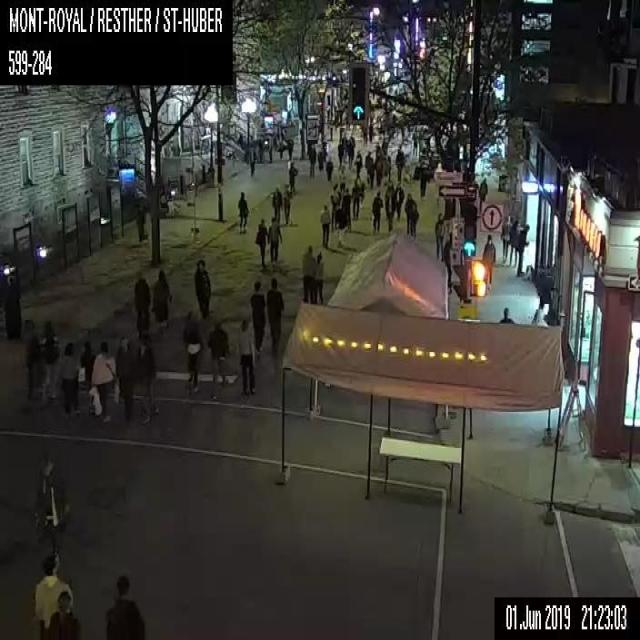pedestrian: (32, 454, 71, 562), (33, 552, 79, 638), (106, 576, 144, 639), (134, 329, 158, 424), (90, 341, 118, 422), (206, 319, 228, 396), (39, 321, 59, 398), (116, 336, 133, 425), (25, 322, 42, 406), (184, 311, 201, 394), (59, 340, 78, 413), (265, 276, 284, 348), (50, 590, 77, 638), (238, 321, 255, 394), (133, 270, 151, 336), (249, 280, 265, 350), (152, 269, 170, 331), (194, 259, 210, 321), (301, 244, 314, 302), (515, 223, 529, 276), (78, 342, 92, 394), (267, 216, 281, 265), (482, 233, 495, 283), (254, 217, 267, 267), (442, 232, 452, 288), (314, 250, 324, 304), (500, 214, 510, 265), (371, 190, 383, 232), (319, 203, 330, 247), (237, 190, 248, 233), (434, 212, 444, 259), (334, 201, 344, 247), (329, 185, 339, 229), (341, 187, 351, 230), (384, 190, 394, 232), (403, 192, 412, 238), (271, 185, 282, 222), (509, 218, 517, 266), (394, 182, 404, 219), (282, 184, 291, 224), (478, 176, 488, 210), (288, 160, 298, 192), (353, 149, 362, 180), (499, 304, 513, 323), (419, 160, 426, 197), (394, 148, 402, 180), (373, 152, 381, 184), (248, 144, 256, 176), (411, 202, 418, 237), (352, 179, 358, 219), (308, 143, 315, 177), (364, 150, 371, 183), (384, 180, 394, 201), (324, 156, 332, 181), (368, 156, 374, 187), (337, 140, 343, 168), (347, 140, 353, 168), (267, 134, 272, 162), (286, 137, 292, 160), (386, 154, 391, 180), (317, 150, 323, 170), (342, 136, 347, 160), (278, 138, 283, 159), (374, 140, 380, 154), (341, 132, 346, 148), (348, 136, 354, 147)
